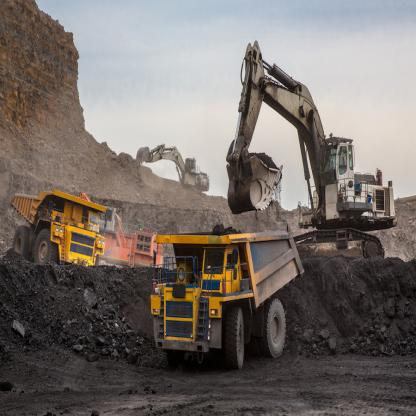dump_truck: (136, 216, 300, 360), (7, 179, 108, 280)
excavator: (222, 32, 402, 269), (132, 130, 220, 204)
